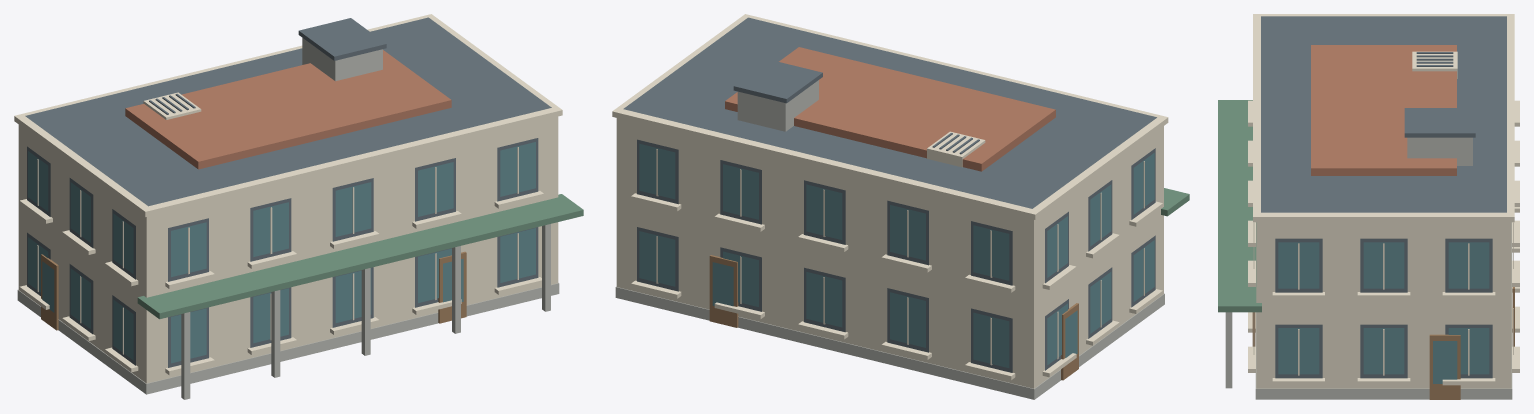
File: q03-arcade.glb
The picture shows the model from 3 angles, left to right: view 1: azimuth 30°, elevation 25°; view 2: azimuth 150°, elevation 25°; view 3: azimuth 270°, elevation 25°; orthographic projection.
Bounding box in the file's own units: 13.46 × 6.61 × 8.28.
